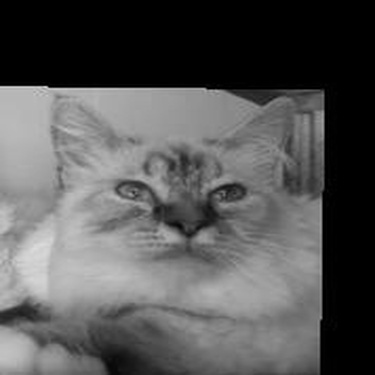cat: (9, 93, 307, 365)
